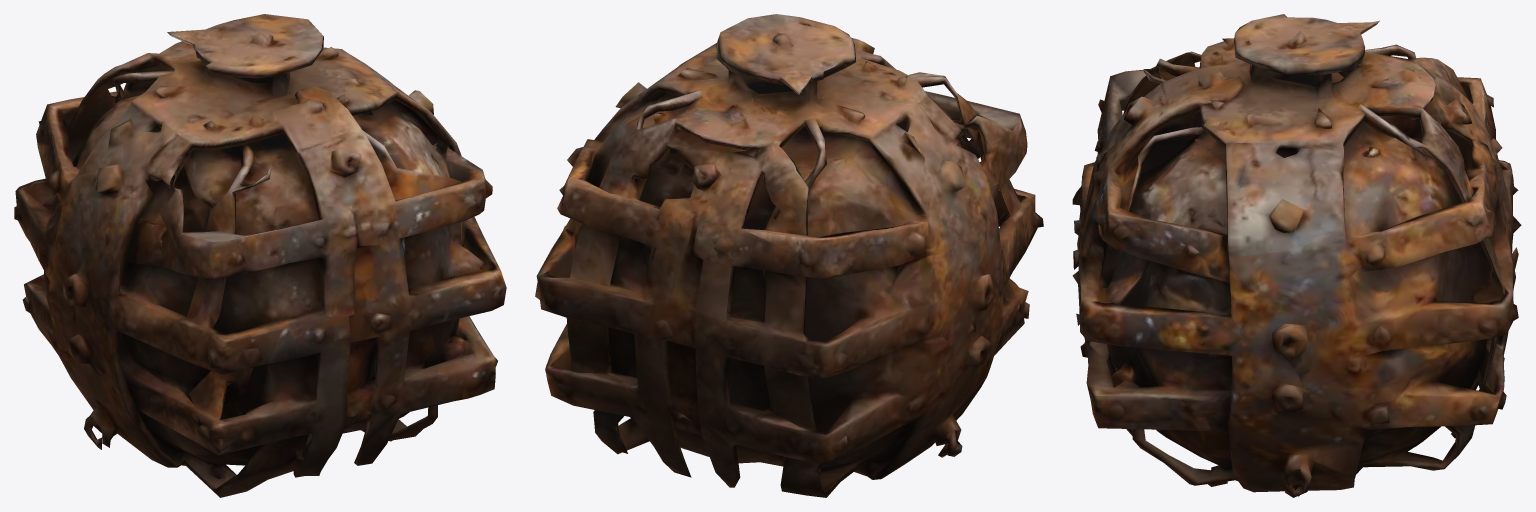
Rendered from p_hedgehog.glb.
3 views of the same model, side by side, from view 1: azimuth 30°, elevation 25°; view 2: azimuth 150°, elevation 25°; view 3: azimuth 270°, elevation 25° (orthographic). The views are drawn at different scales.
Parts seen in each view (by area): view 1: tripo_node_59d52b1c-ca41-485f-b9fb-f501ff2b6303; view 2: tripo_node_59d52b1c-ca41-485f-b9fb-f501ff2b6303; view 3: tripo_node_59d52b1c-ca41-485f-b9fb-f501ff2b6303.
Boxes of the visible parts, bbox=[...] form: tripo_node_59d52b1c-ca41-485f-b9fb-f501ff2b6303: bbox=[14, 14, 506, 497]; tripo_node_59d52b1c-ca41-485f-b9fb-f501ff2b6303: bbox=[535, 14, 1043, 497]; tripo_node_59d52b1c-ca41-485f-b9fb-f501ff2b6303: bbox=[1072, 14, 1521, 497].
Size of the model in its own units: 0.9871 by 1 by 0.9607.
1 material, 1 textured.
